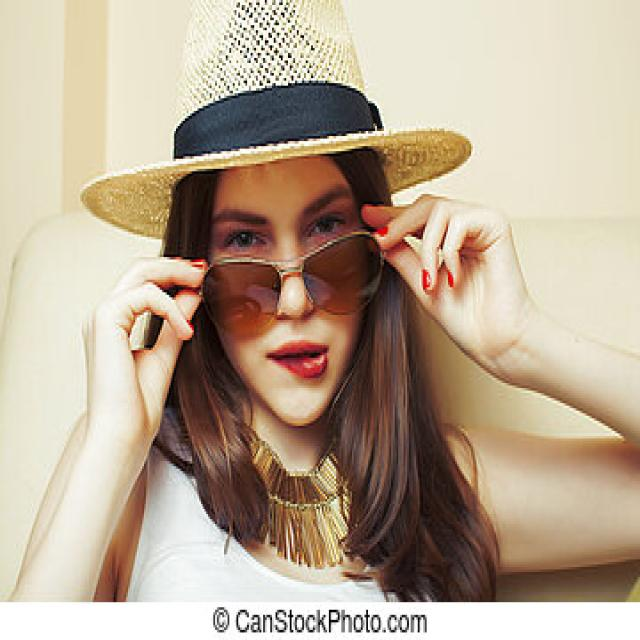hat: (80, 0, 471, 426)
